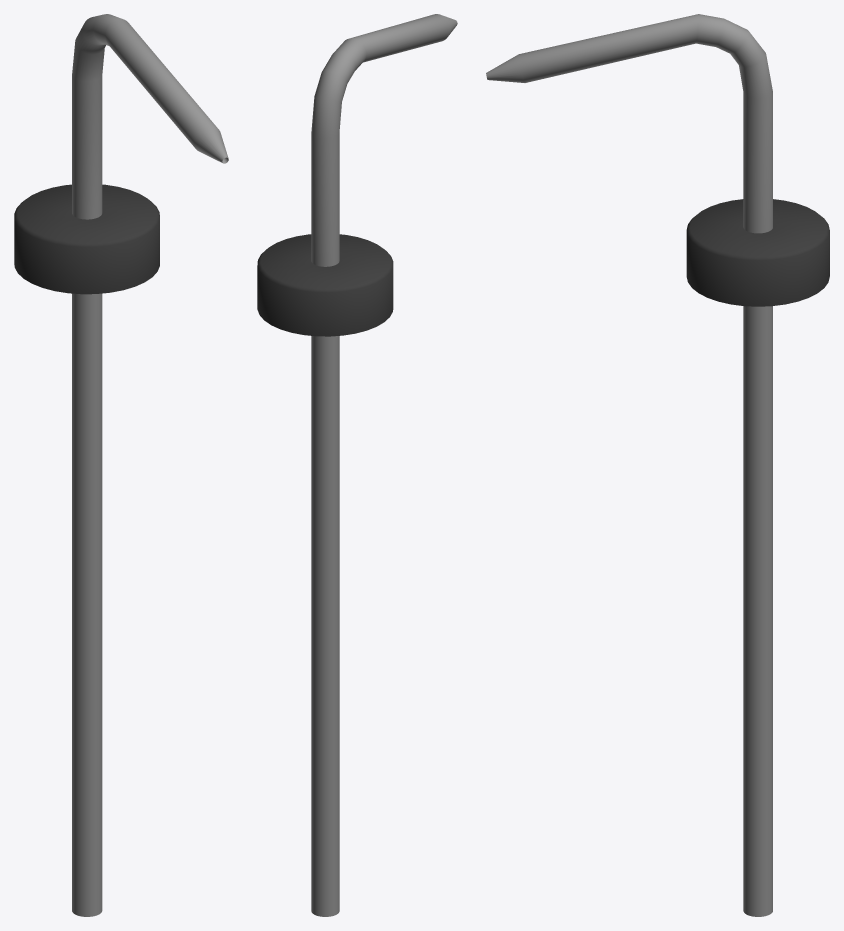
The model's file is SM_蒸馏水_001.fbx.
3 views of the same model, side by side, from view 1: azimuth 30°, elevation 25°; view 2: azimuth 150°, elevation 25°; view 3: azimuth 270°, elevation 25° (orthographic). The views are drawn at different scales.
Visible parts, largest first — view 1: SM_蒸馏水_001; view 2: SM_蒸馏水_001; view 3: SM_蒸馏水_001.
Boxes of the visible parts, left/top/right/bottom form: SM_蒸馏水_001: left=14, top=14, right=228, bottom=916; SM_蒸馏水_001: left=257, top=14, right=457, bottom=916; SM_蒸馏水_001: left=486, top=14, right=829, bottom=916.
Size of the model in its own units: 0.0349 by 0.2403 by 0.0836.
